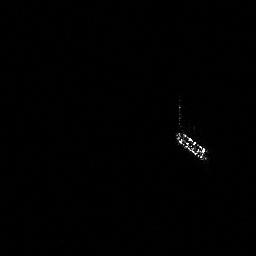ship: (172, 127, 212, 164)
